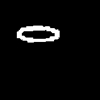chain: (17, 26, 58, 41)
